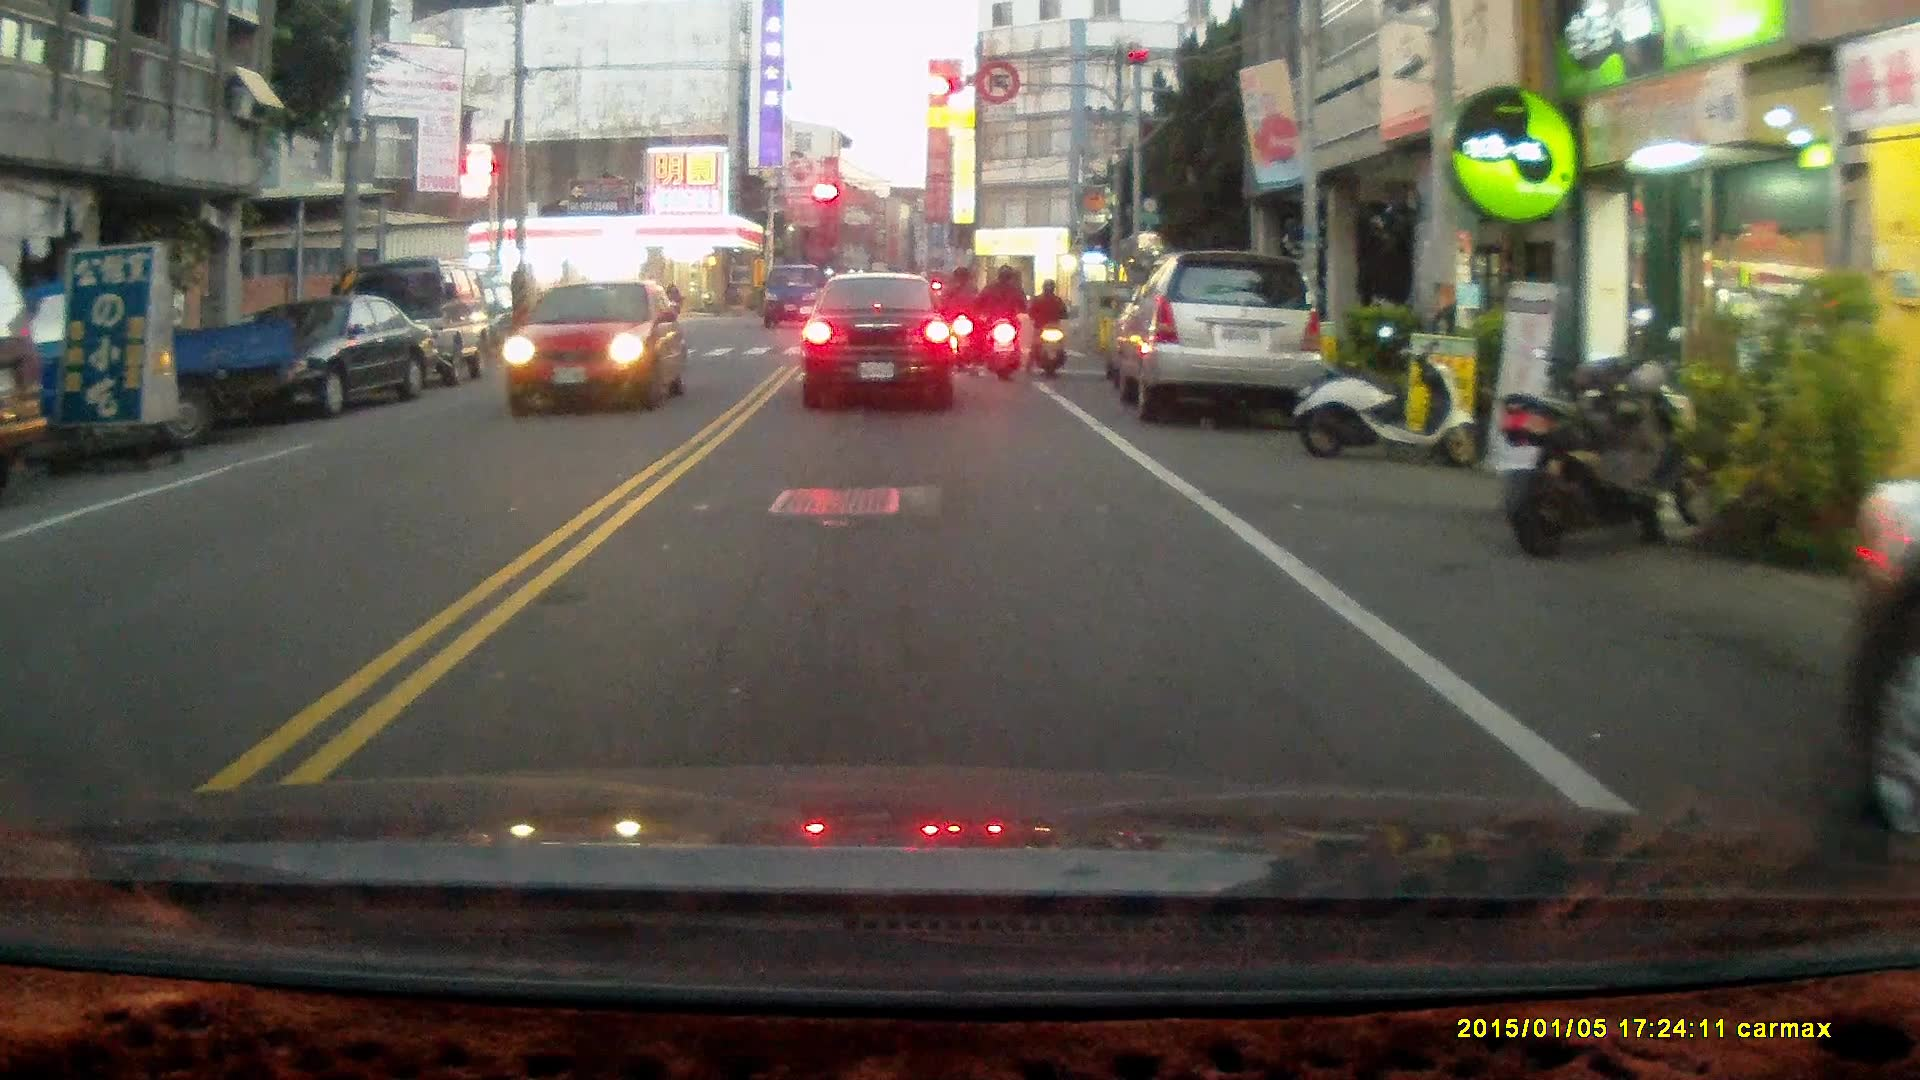rider: (970, 265, 1025, 386), (1024, 278, 1069, 383), (936, 266, 977, 374)
vehicle: (1110, 251, 1331, 433), (1833, 472, 1920, 827), (198, 293, 433, 414), (496, 277, 685, 415), (799, 270, 954, 414), (335, 254, 492, 393)
